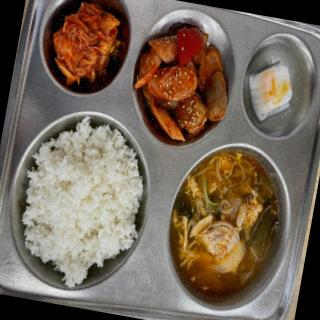Nasi: (10, 110, 158, 299)
